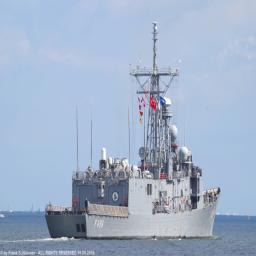Fragata: (44, 20, 223, 243)
